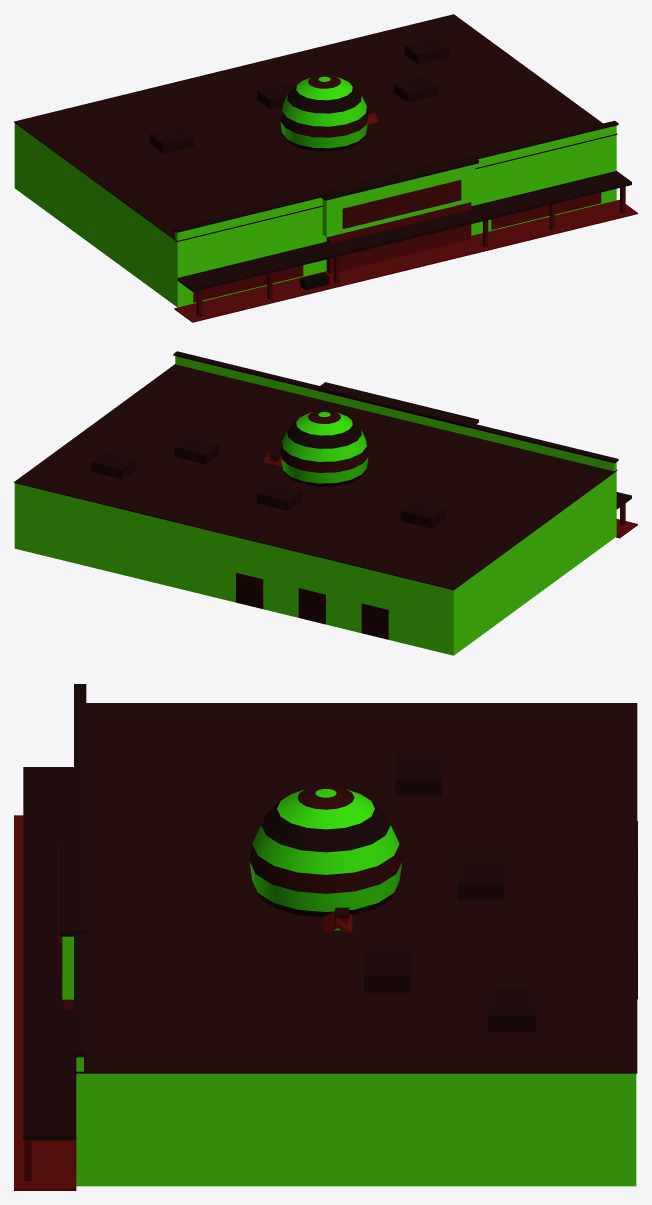
The picture shows the model from 3 angles, top to bottom: view 1: azimuth 30°, elevation 25°; view 2: azimuth 150°, elevation 25°; view 3: azimuth 270°, elevation 25°; orthographic projection. The views are drawn at different scales.
Parts seen in each view (by area): view 1: supermarket, hot_air_balloon; view 2: supermarket, hot_air_balloon; view 3: supermarket, hot_air_balloon.
Boxes of the visible parts, x1,y1,x2,y2 form: supermarket: [14, 14, 637, 322]; hot_air_balloon: [280, 75, 368, 151]; supermarket: [14, 351, 637, 655]; hot_air_balloon: [280, 410, 368, 486]; supermarket: [14, 684, 637, 1190]; hot_air_balloon: [249, 785, 402, 917].
Size of what is drawn, in the model's own units: 56.8 by 15 by 40.1.
